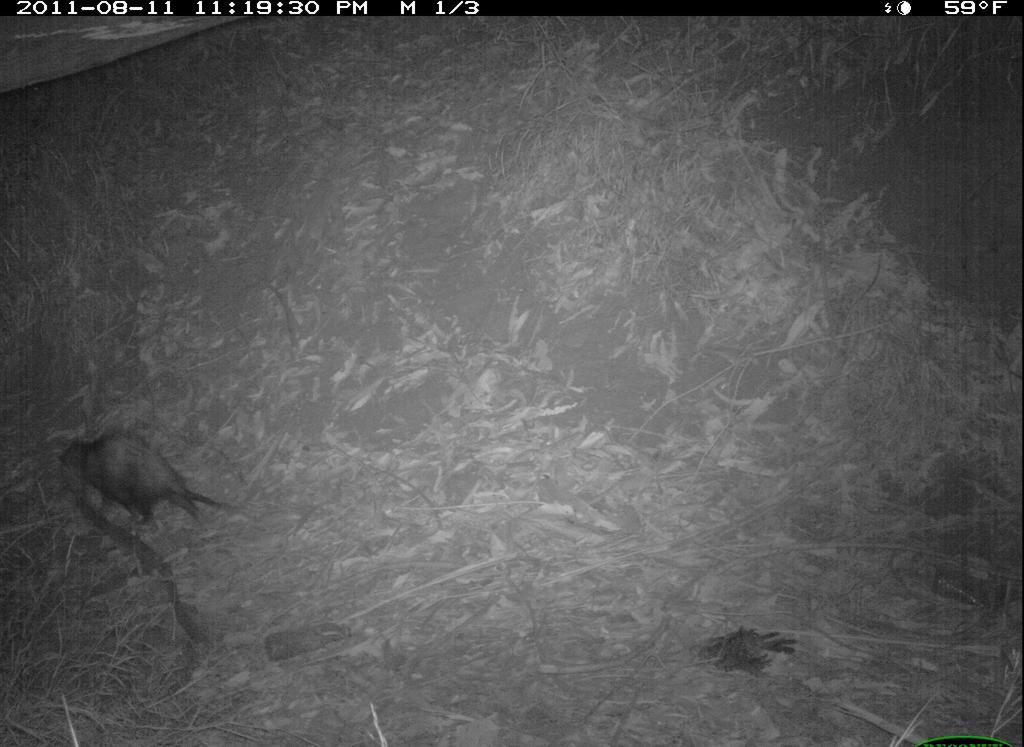opossum: (53, 423, 249, 533)
